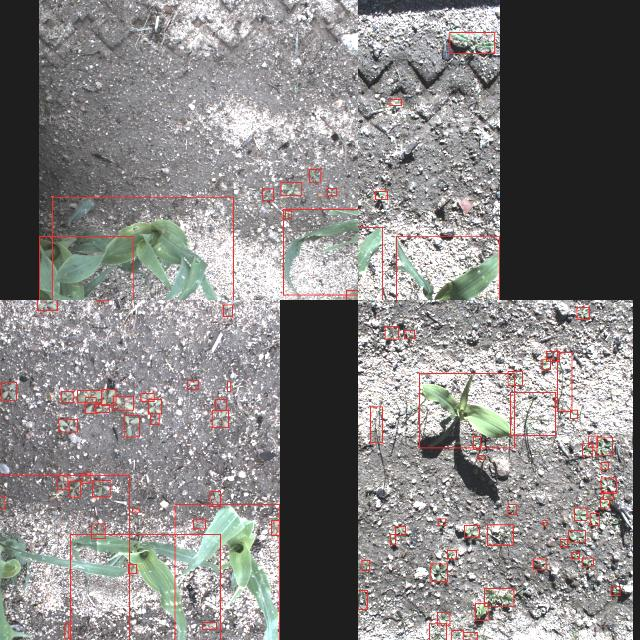crop: (0, 475, 129, 640), (51, 196, 233, 300), (70, 534, 220, 640), (174, 504, 279, 640), (419, 374, 515, 448), (396, 235, 499, 300), (283, 209, 358, 295), (39, 236, 133, 300)
weed: (510, 392, 556, 436), (450, 32, 494, 54), (558, 352, 572, 412), (484, 588, 514, 606), (487, 525, 513, 545), (370, 407, 382, 443), (124, 415, 140, 437), (430, 564, 448, 582), (280, 182, 302, 196), (429, 623, 446, 640), (78, 390, 102, 402), (212, 410, 228, 428), (92, 481, 110, 497), (114, 396, 134, 410), (1, 382, 16, 400), (598, 438, 612, 456), (58, 420, 78, 432), (102, 390, 116, 406), (148, 398, 162, 414), (474, 604, 488, 620), (568, 530, 586, 542), (37, 300, 57, 310), (91, 524, 105, 538), (508, 371, 522, 385), (602, 478, 616, 492), (464, 525, 480, 537), (436, 612, 449, 626), (384, 326, 398, 339), (358, 590, 367, 609), (56, 475, 68, 489), (576, 307, 590, 319), (574, 508, 588, 520), (86, 397, 96, 413), (70, 481, 80, 497), (309, 170, 321, 182), (262, 189, 274, 201), (534, 558, 546, 570), (60, 392, 74, 402), (210, 492, 220, 506), (546, 351, 560, 361), (272, 520, 280, 536), (588, 436, 598, 448), (583, 444, 593, 456), (590, 513, 600, 525), (95, 404, 109, 412), (140, 393, 154, 401), (203, 622, 217, 630), (463, 632, 477, 640), (216, 400, 227, 410), (451, 630, 462, 640), (188, 380, 198, 390), (150, 414, 160, 424), (447, 550, 457, 560), (600, 498, 610, 508), (395, 526, 405, 536), (375, 191, 387, 199), (224, 304, 232, 316), (193, 520, 205, 528), (582, 558, 594, 566), (474, 436, 481, 449), (82, 472, 90, 483), (327, 188, 337, 196), (128, 564, 136, 574), (361, 560, 369, 570), (404, 331, 414, 339), (612, 586, 620, 596), (542, 359, 550, 369), (603, 492, 613, 500), (508, 504, 516, 514), (390, 99, 402, 105), (570, 409, 578, 418), (0, 495, 5, 508), (438, 518, 446, 526), (572, 552, 580, 560), (560, 539, 568, 547), (390, 534, 396, 544), (65, 624, 69, 638), (286, 210, 292, 218), (602, 462, 608, 470), (478, 454, 484, 460), (132, 508, 140, 512), (543, 520, 547, 526), (228, 381, 230, 391)
